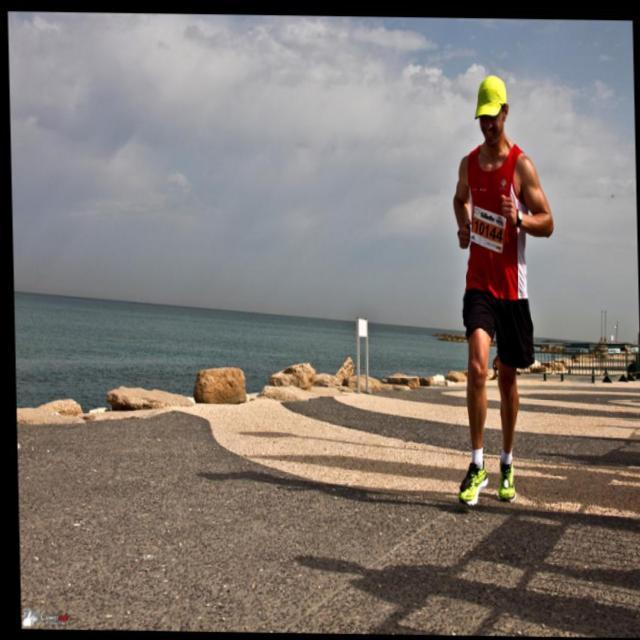dorsal: (466, 198, 508, 255)
